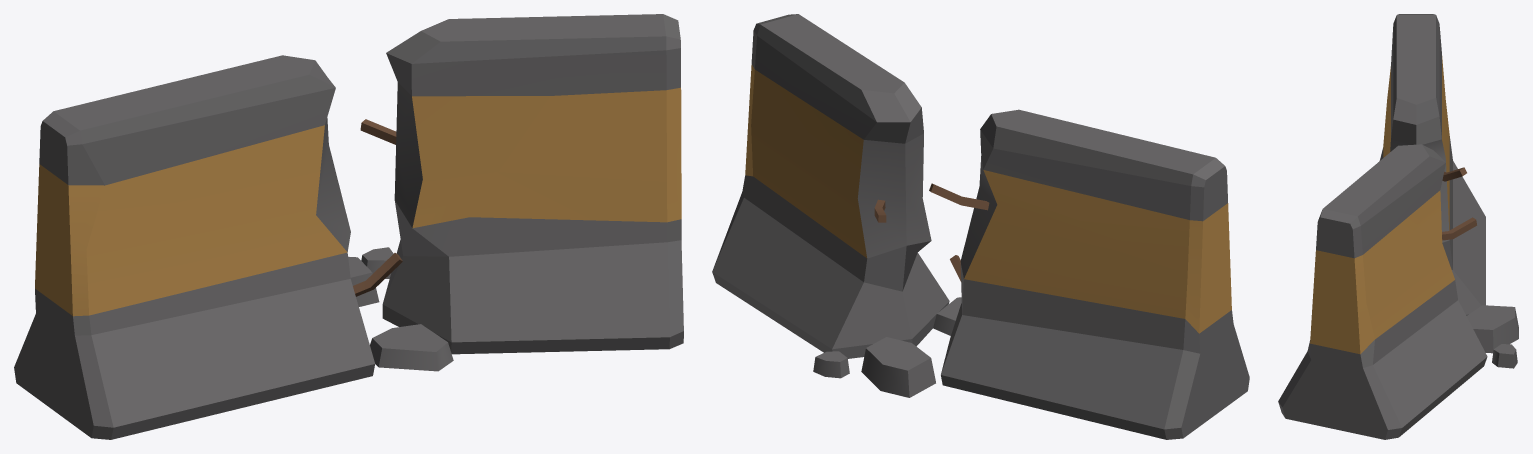
File: apoc_SM_Prop_Barrier_Concrete_Broken_01.gltf
The picture shows the model from 3 angles, left to right: view 1: azimuth 30°, elevation 25°; view 2: azimuth 150°, elevation 25°; view 3: azimuth 270°, elevation 25°; orthographic projection. The views are drawn at different scales.
Parts seen in each view (by area): view 1: SM_Prop_Barrier_Concrete_Broken_01; view 2: SM_Prop_Barrier_Concrete_Broken_01; view 3: SM_Prop_Barrier_Concrete_Broken_01.
Part boxes in pixels (bbox=[...]): SM_Prop_Barrier_Concrete_Broken_01: bbox=[14, 14, 683, 439]; SM_Prop_Barrier_Concrete_Broken_01: bbox=[712, 14, 1249, 439]; SM_Prop_Barrier_Concrete_Broken_01: bbox=[1278, 14, 1518, 439].
Bounding box in the file's own units: 1.98 × 0.9029 × 0.9266.
Materials: 1 (1 with a texture image).
